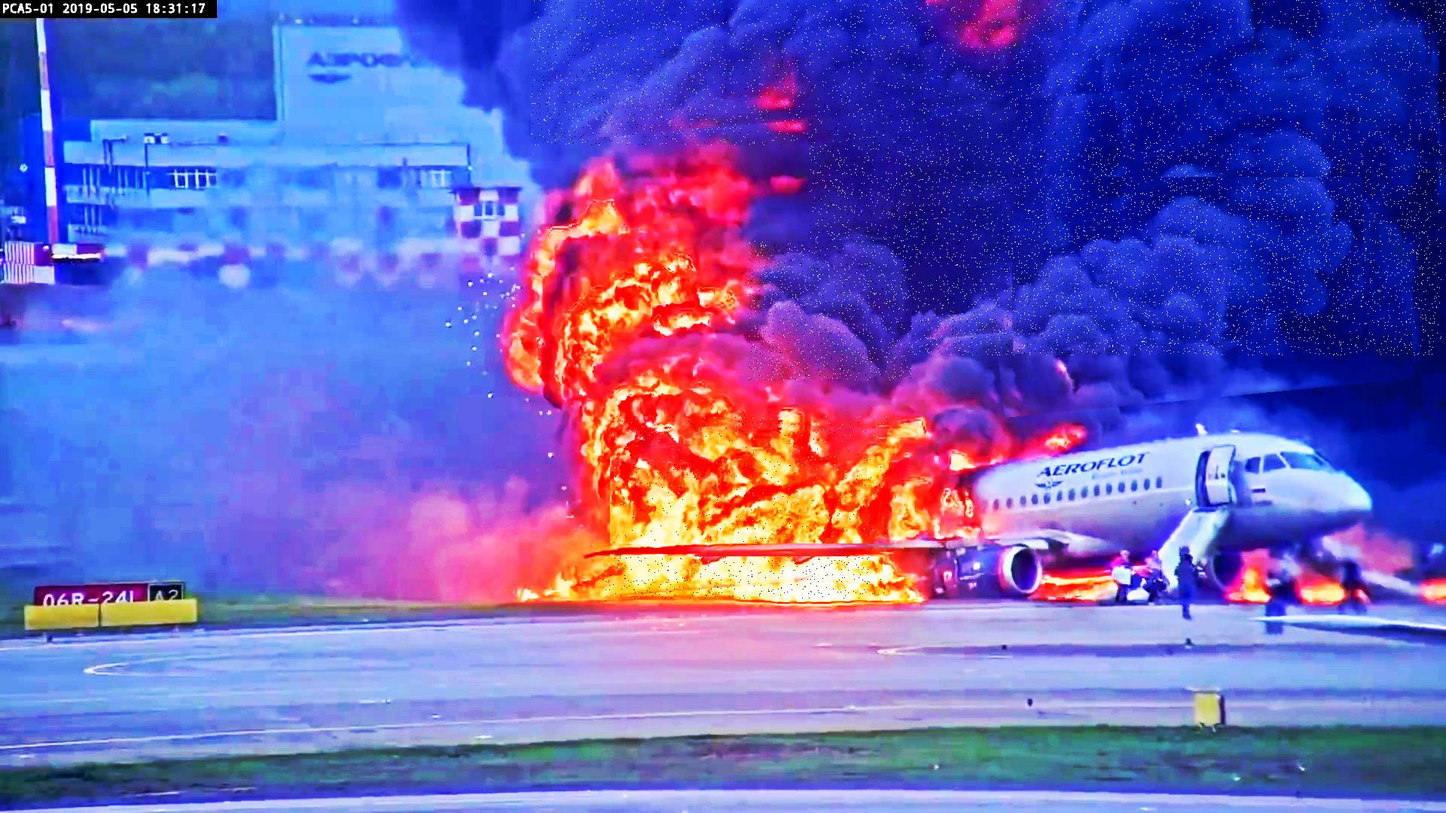fire: (610, 416, 888, 544), (605, 557, 885, 599)
smoke: (810, 4, 1442, 356), (531, 0, 1446, 145), (981, 189, 1415, 420), (1012, 179, 1363, 356), (748, 241, 911, 380)
